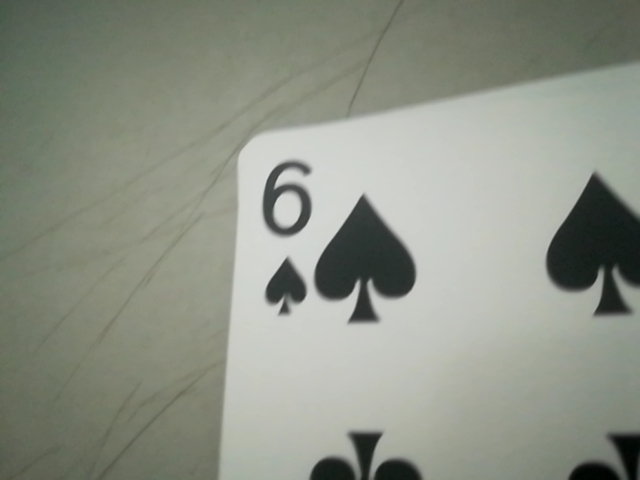ht 6: (244, 145, 331, 326)
